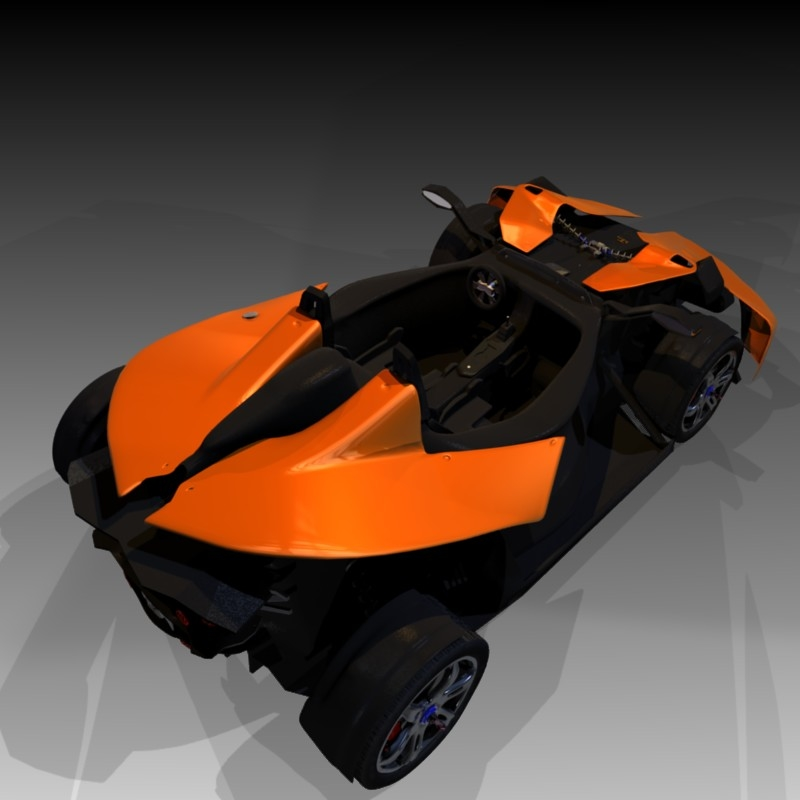hatch: (242, 311, 258, 319)
